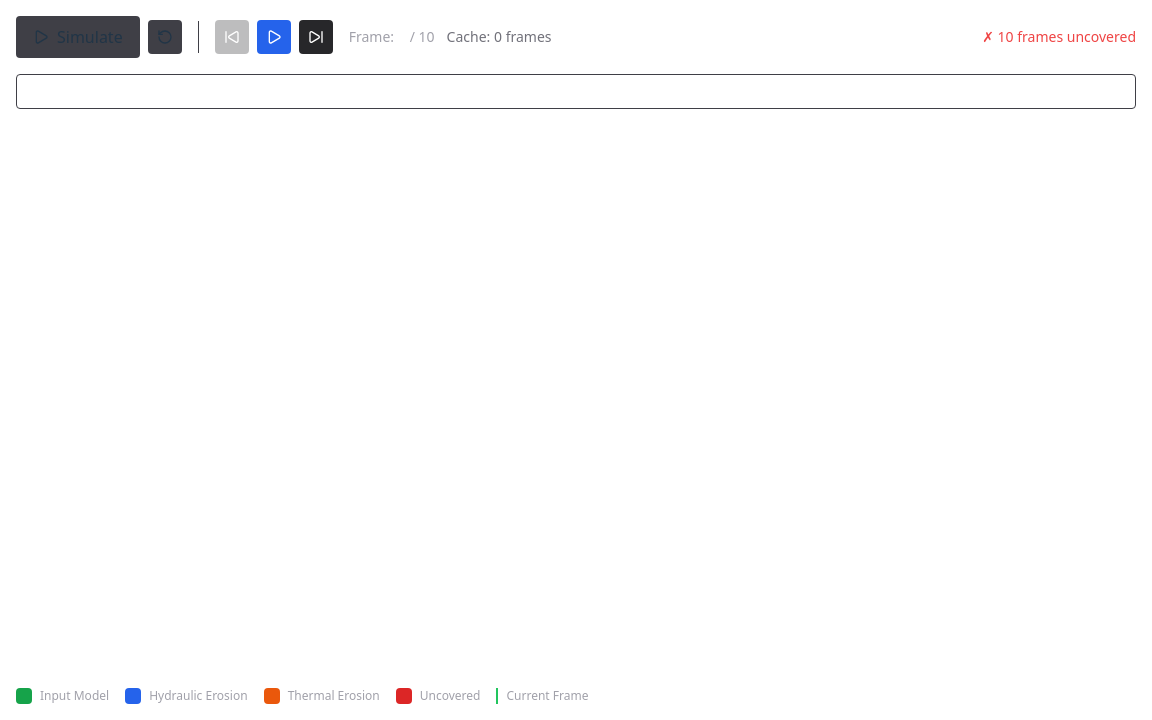
ConfigurationTimeline › handles play button click
Click the button titled "Play" at (274, 37), box top-left (257, 20), bottom-right (291, 54)
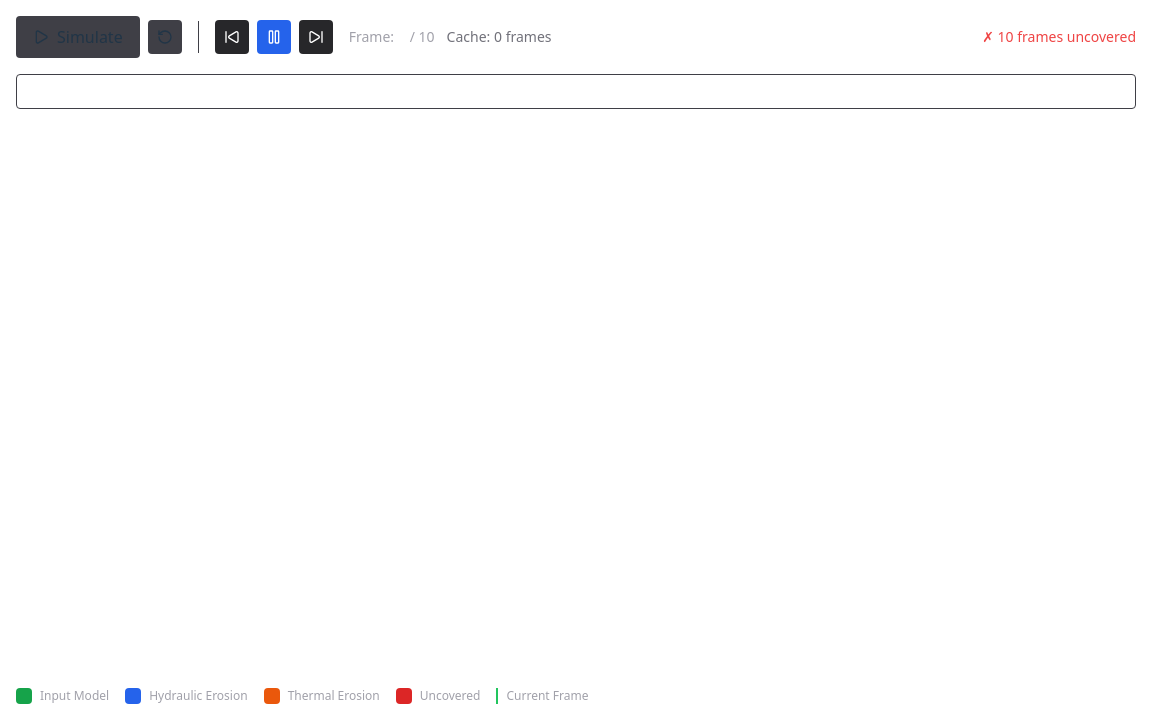
Check: the button titled "Pause" is shown, box top-left (257, 20), bottom-right (291, 54)
